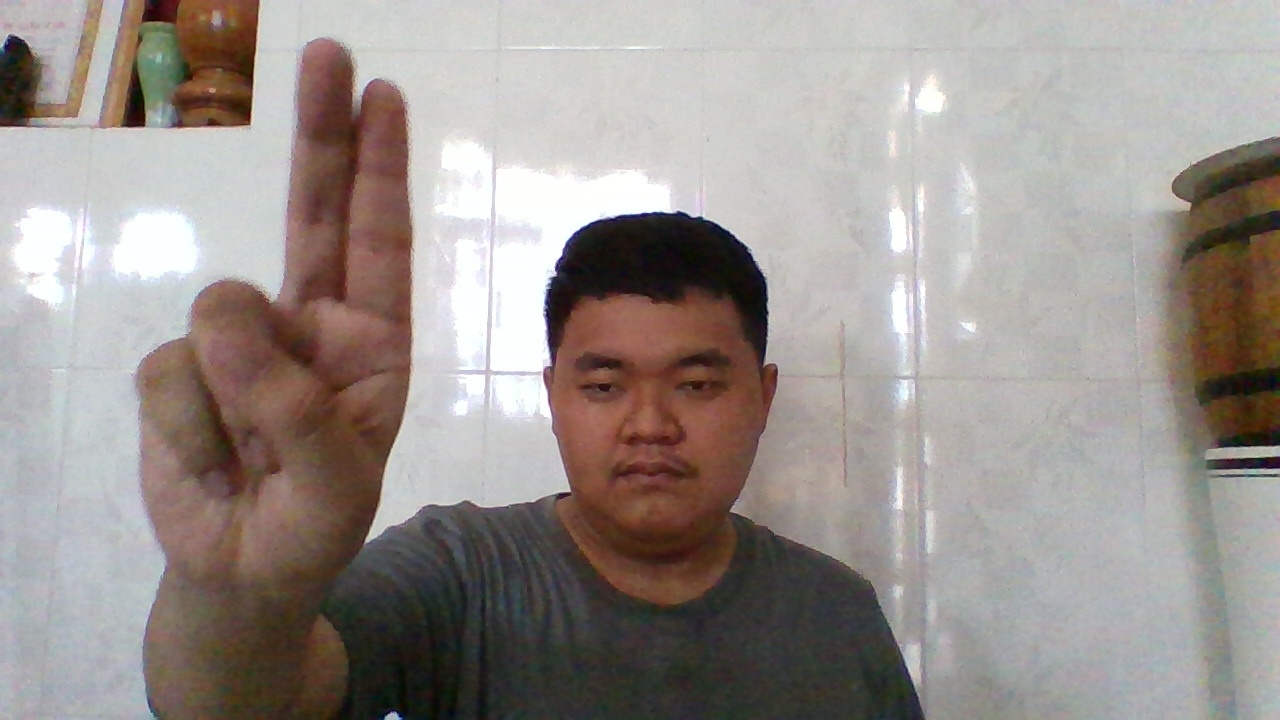U: (156, 46, 397, 621)
